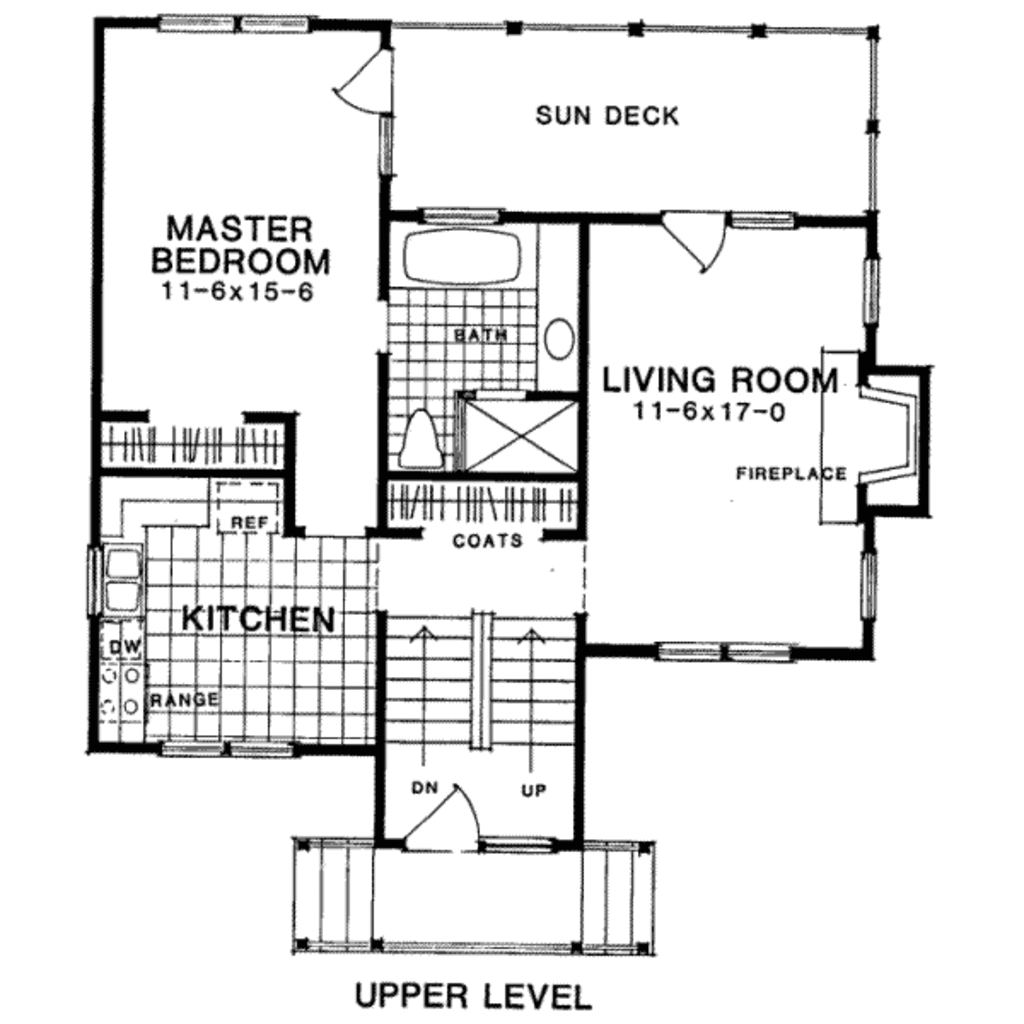door: (334, 46, 396, 117), (656, 209, 723, 271)
large_sink: (393, 407, 446, 471)
small_sink: (539, 299, 580, 393)
stairs: (281, 838, 660, 958), (384, 609, 577, 791)
tub: (389, 218, 537, 287)
twin_sink: (97, 544, 151, 616)
windows: (152, 10, 311, 36), (150, 737, 293, 760), (649, 644, 793, 662), (373, 118, 404, 182), (726, 208, 799, 231), (861, 255, 883, 330), (860, 546, 880, 628)
